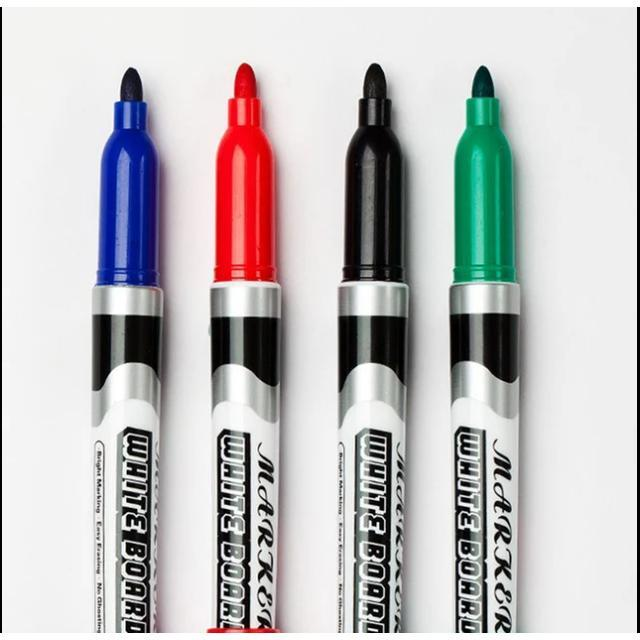marker: (448, 60, 527, 628), (212, 57, 283, 633), (90, 70, 160, 633), (342, 59, 407, 624)
